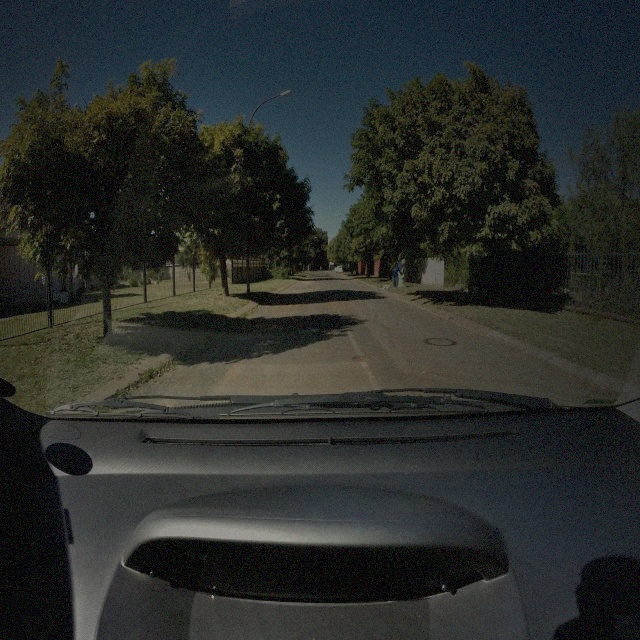pothole: (352, 354, 371, 364)
